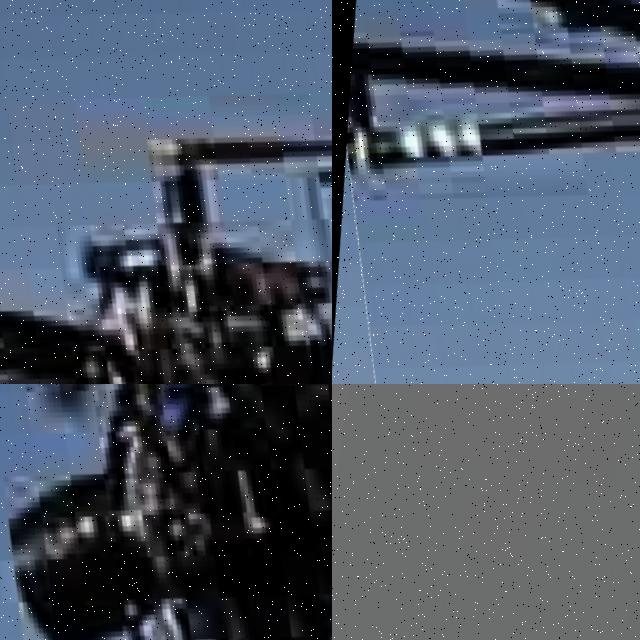drone: (0, 0, 332, 384), (332, 0, 640, 384), (0, 384, 332, 640)
